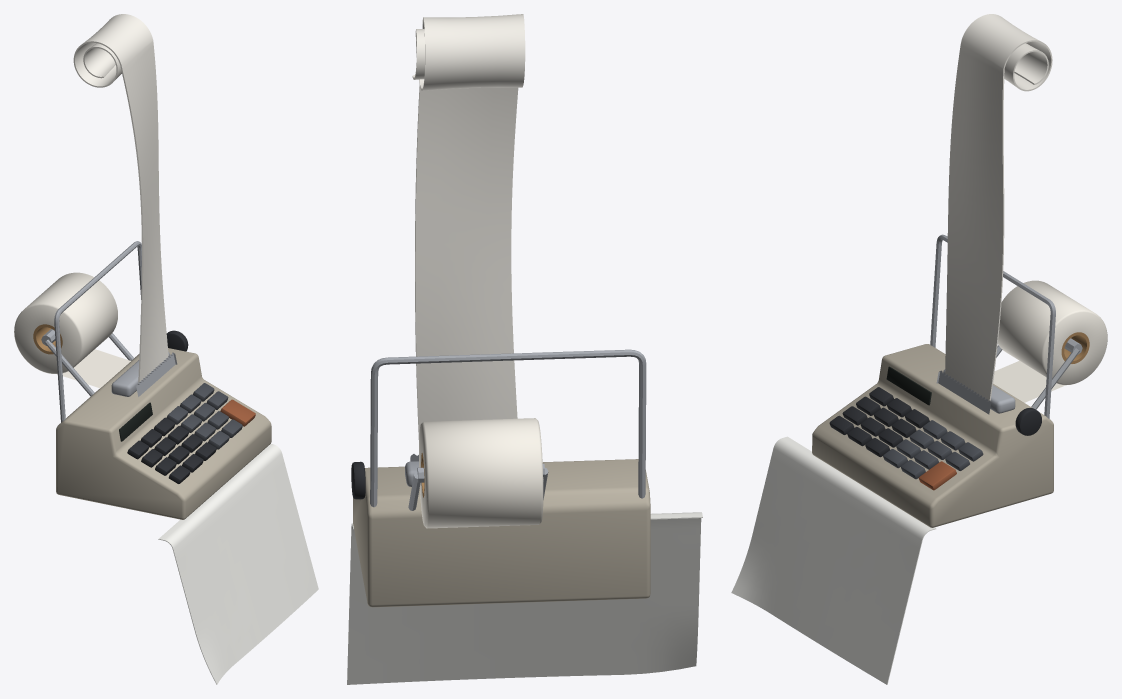
The model's file is financeiro_direita.glb.
3 views of the same model, side by side, from view 1: azimuth 30°, elevation 25°; view 2: azimuth 150°, elevation 25°; view 3: azimuth 270°, elevation 25° (orthographic). The views are drawn at different scales.
Parts seen in each view (by area): view 1: boleto, carcaca, fita, bobina, teclas, cabecote; view 2: fita, carcaca, boleto, bobina, cabecote; view 3: boleto, fita, carcaca, bobina, teclas, cabecote.
Part boxes in pixels (left/top/right/bottom): boleto: left=158, top=444, right=318, bottom=684; carcaca: left=56, top=348, right=271, bottom=519; fita: left=73, top=14, right=168, bottom=383; bobina: left=14, top=272, right=130, bottom=388; teclas: left=119, top=330, right=255, bottom=483; cabecote: left=41, top=241, right=177, bottom=422; fita: left=412, top=14, right=525, bottom=439; carcaca: left=353, top=459, right=650, bottom=607; boleto: left=347, top=512, right=702, bottom=684; bobina: left=419, top=418, right=543, bottom=528; cabecote: left=370, top=349, right=646, bottom=510; boleto: left=731, top=436, right=936, bottom=684; fita: left=945, top=14, right=1052, bottom=400; carcaca: left=812, top=344, right=1053, bottom=527; bobina: left=993, top=280, right=1107, bottom=402; teclas: left=829, top=366, right=1041, bottom=490; cabecote: left=930, top=234, right=1082, bottom=418.
Bounding box in the file's own units: 0.1155 × 0.2557 × 0.15.
